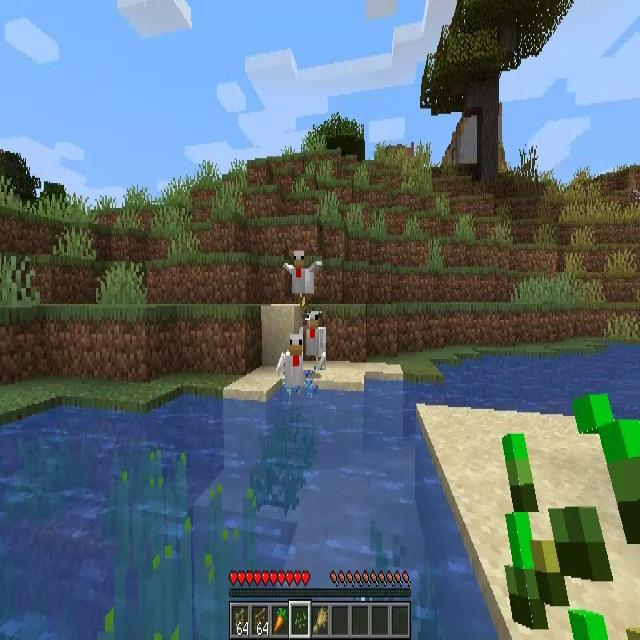duck: (276, 337, 309, 398), (284, 250, 322, 297), (303, 313, 326, 370)
